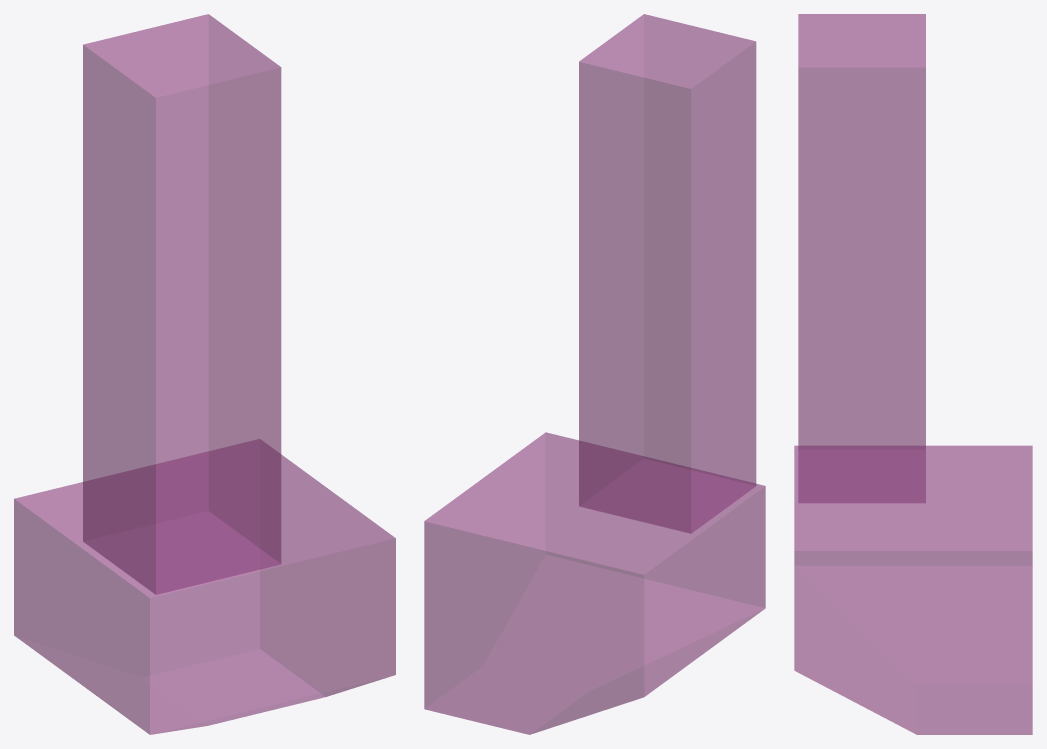
Rendered from SM_Bld_Railing_Pillar_Corner_Outer_01_Collision.fbx.
3 renders of one model, left to right at view 1: azimuth 30°, elevation 25°; view 2: azimuth 150°, elevation 25°; view 3: azimuth 270°, elevation 25°, orthographic. The views are drawn at different scales.
Visible parts, largest first — view 1: SM_Bld_Railing_Pillar_Corner_Outer_01_Collision; view 2: SM_Bld_Railing_Pillar_Corner_Outer_01_Collision; view 3: SM_Bld_Railing_Pillar_Corner_Outer_01_Collision.
Part boxes in pixels (box(x1,y1,x2,y2)): SM_Bld_Railing_Pillar_Corner_Outer_01_Collision: box(14, 14, 395, 734); SM_Bld_Railing_Pillar_Corner_Outer_01_Collision: box(424, 14, 765, 734); SM_Bld_Railing_Pillar_Corner_Outer_01_Collision: box(794, 14, 1032, 734).
Size of the model in its own units: 58.72 by 161 by 56.21.
